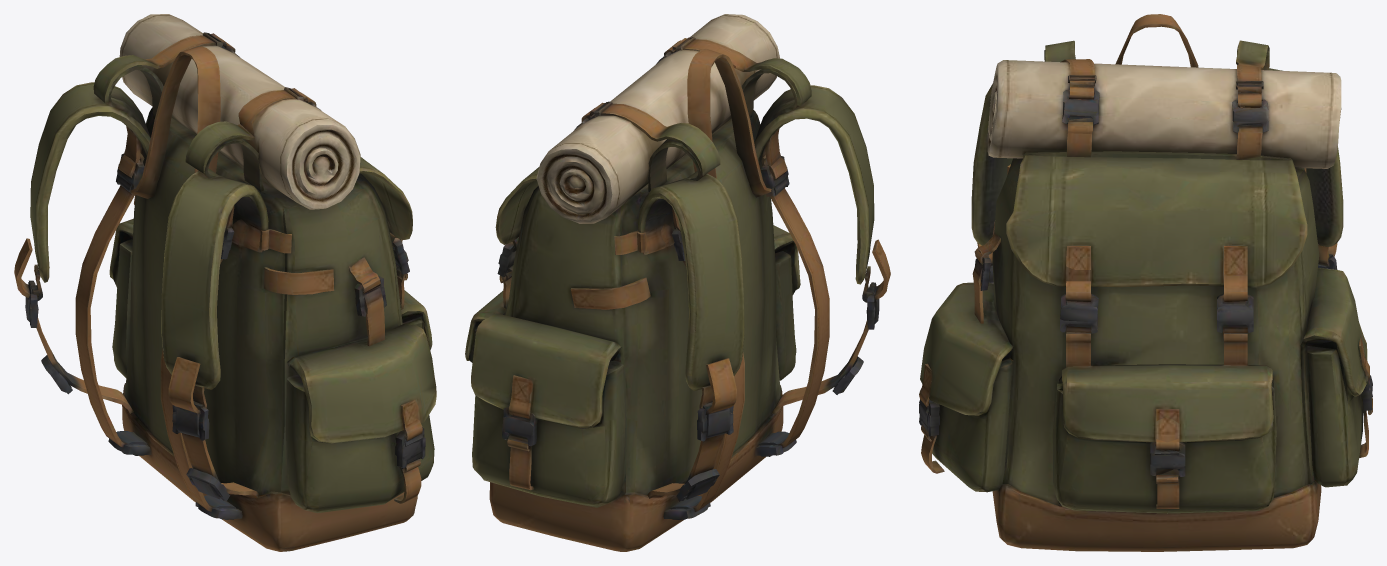
File: survival-backpack.glb
3 renders of one model, left to right at view 1: azimuth 30°, elevation 25°; view 2: azimuth 150°, elevation 25°; view 3: azimuth 270°, elevation 25°, orthographic. The views are drawn at different scales.
Visible parts, largest first — view 1: tripo_node_28fc61b7-8e8c-497f-bfd4-fcc805ad8e53; view 2: tripo_node_28fc61b7-8e8c-497f-bfd4-fcc805ad8e53; view 3: tripo_node_28fc61b7-8e8c-497f-bfd4-fcc805ad8e53.
Part boxes in pixels (x1,y1,x2,y2): tripo_node_28fc61b7-8e8c-497f-bfd4-fcc805ad8e53: (14, 14, 436, 551); tripo_node_28fc61b7-8e8c-497f-bfd4-fcc805ad8e53: (465, 14, 890, 551); tripo_node_28fc61b7-8e8c-497f-bfd4-fcc805ad8e53: (919, 14, 1372, 551).
Bounding box in the file's own units: 0.7246 × 0.998 × 0.8926.
1 material, 1 textured.
